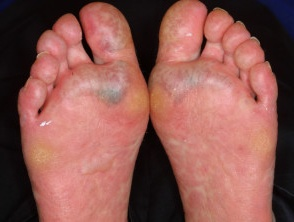SJS-TEN: (7, 0, 150, 222), (147, 0, 282, 222)
